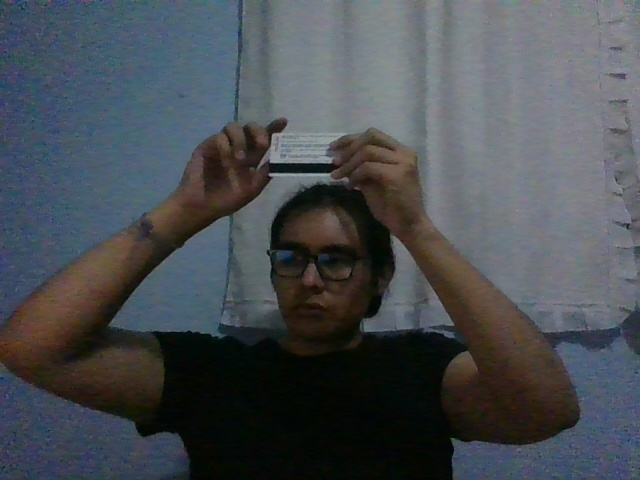tarjeta: (267, 132, 349, 178)
